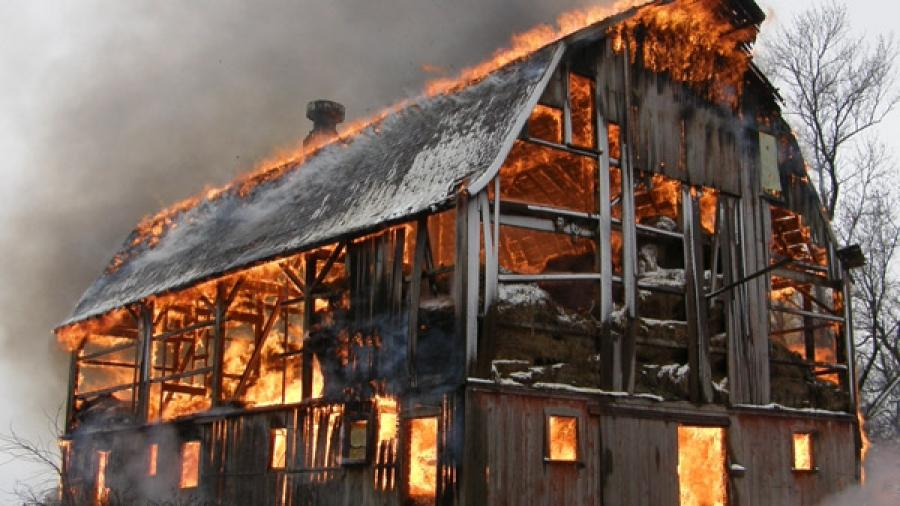Fire: (506, 117, 627, 281), (225, 267, 306, 413), (622, 5, 746, 81), (67, 320, 144, 432), (149, 287, 213, 419), (673, 422, 729, 499), (404, 416, 443, 501), (545, 411, 579, 462)
